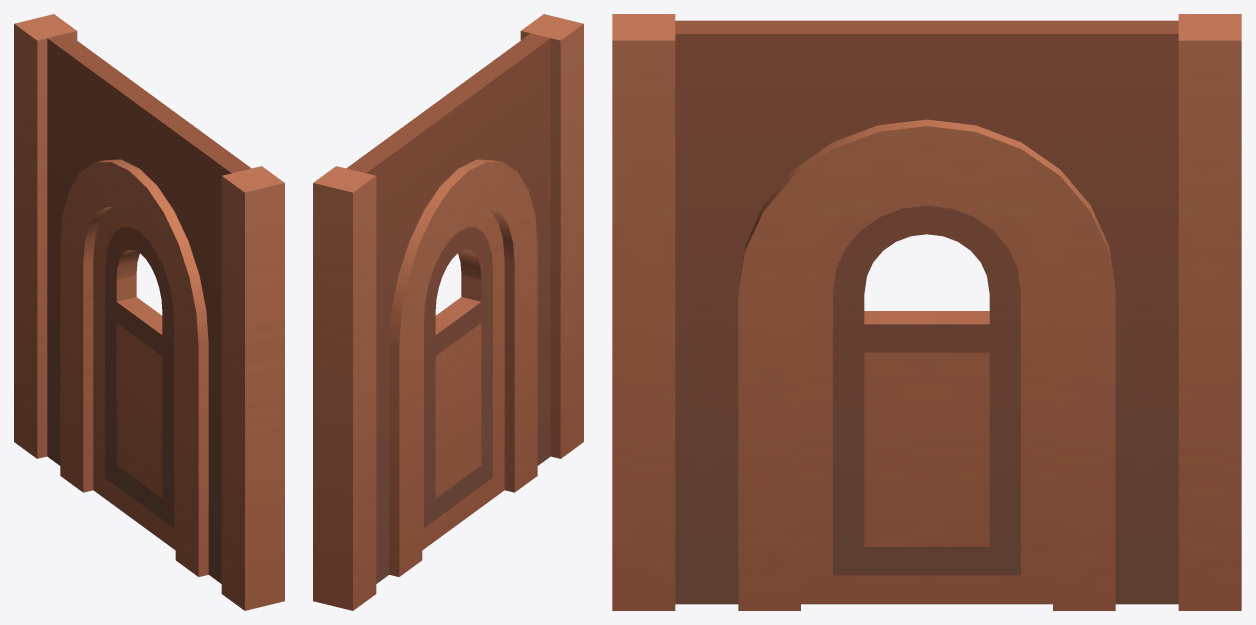
The model's file is wallWoodDoor.fbx.
The picture shows the model from 3 angles, left to right: view 1: azimuth 30°, elevation 25°; view 2: azimuth 150°, elevation 25°; view 3: azimuth 270°, elevation 25°; orthographic projection. The views are drawn at different scales.
Parts seen in each view (by area): view 1: wallWoodDoor, door; view 2: wallWoodDoor, door; view 3: wallWoodDoor, door.
Part boxes in pixels (x1=…): wallWoodDoor: x1=14, y1=14, x2=284, y2=610; door: x1=93, y1=207, x2=175, y2=550; wallWoodDoor: x1=313, y1=14, x2=583, y2=610; door: x1=422, y1=207, x2=504, y2=550; wallWoodDoor: x1=612, y1=14, x2=1241, y2=610; door: x1=801, y1=183, x2=1052, y2=604.
Bounding box in the file's own units: 0.1 × 1 × 1.
